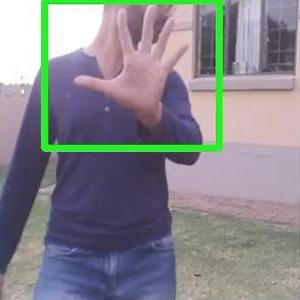follow_hand: (71, 1, 196, 114)
